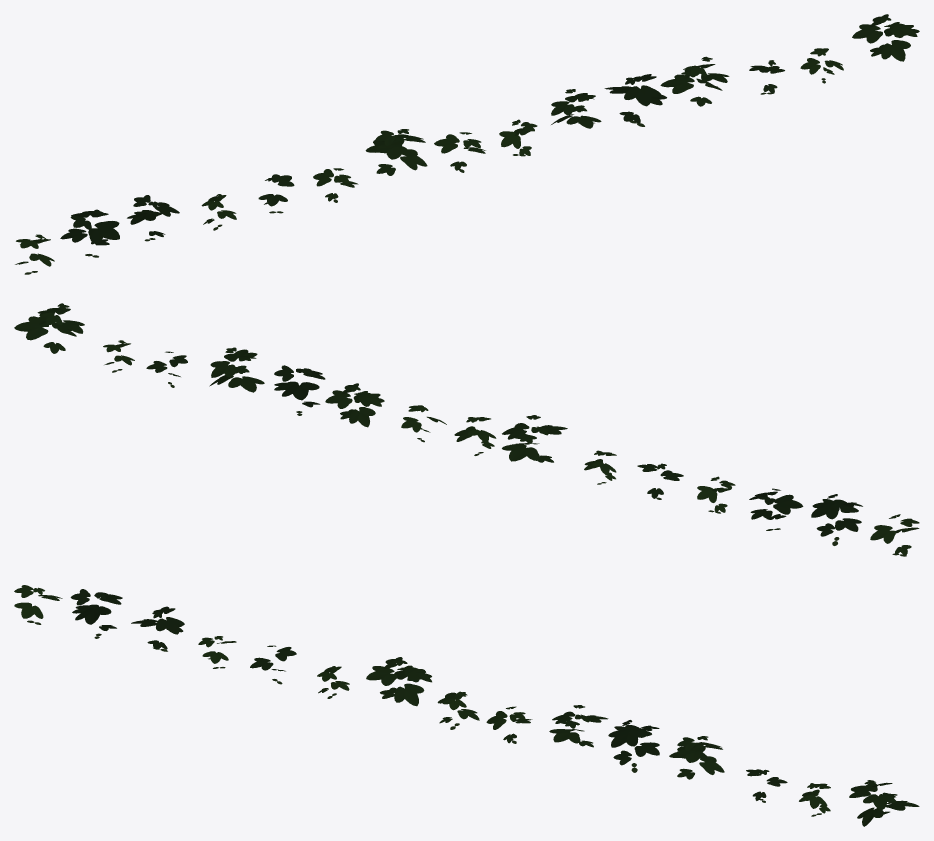
File: ROW_16_SEG2_foliage.dae
3 renders of one model, top to bottom at view 1: azimuth 30°, elevation 25°; view 2: azimuth 150°, elevation 25°; view 3: azimuth 330°, elevation 25°, orthographic.
Visible parts, largest first — view 1: ROW_16_SEG2_foliage; view 2: ROW_16_SEG2_foliage; view 3: ROW_16_SEG2_foliage.
Boxes of the visible parts, bbox=[...] form: ROW_16_SEG2_foliage: bbox=[15, 14, 919, 274]; ROW_16_SEG2_foliage: bbox=[14, 303, 919, 556]; ROW_16_SEG2_foliage: bbox=[14, 585, 919, 826].
Size of the model in its own units: 4.52 by 0.3553 by 0.2625.
